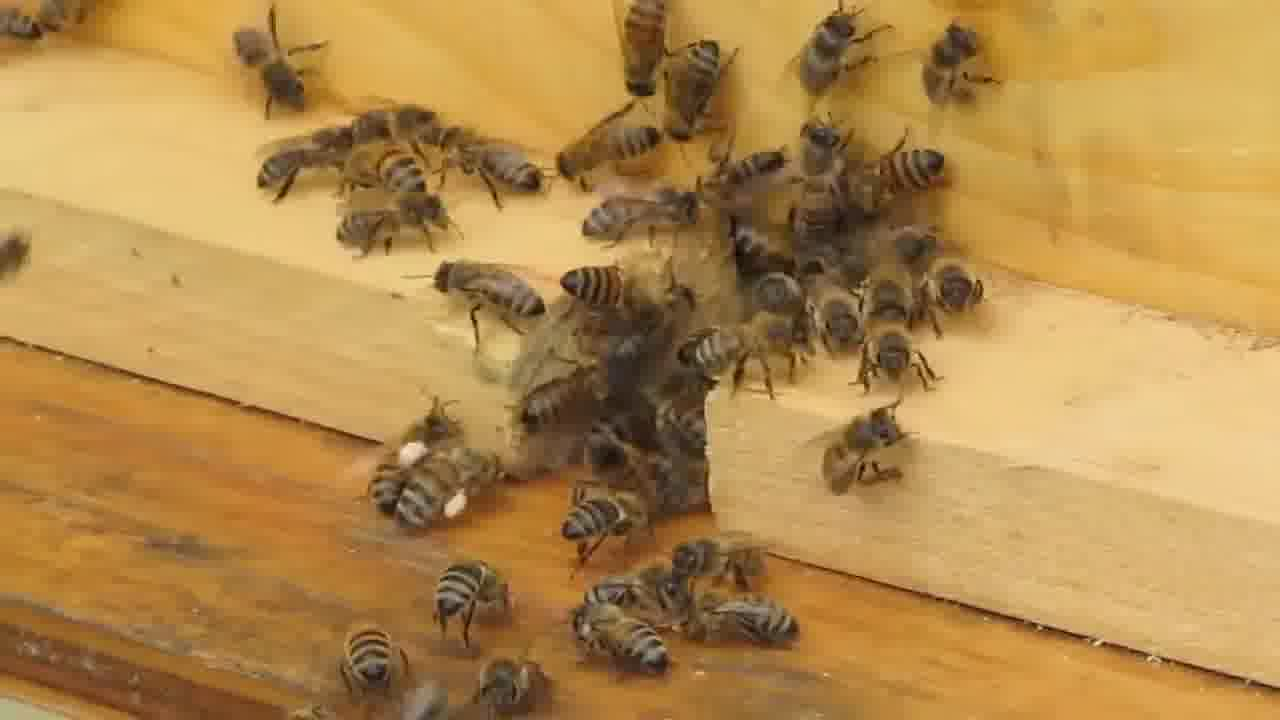pollen: (395, 436, 498, 536)
